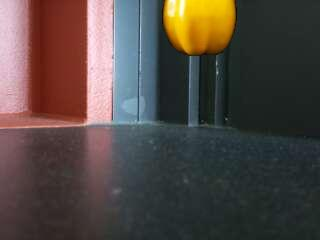Capsicum: (160, 0, 237, 57)
